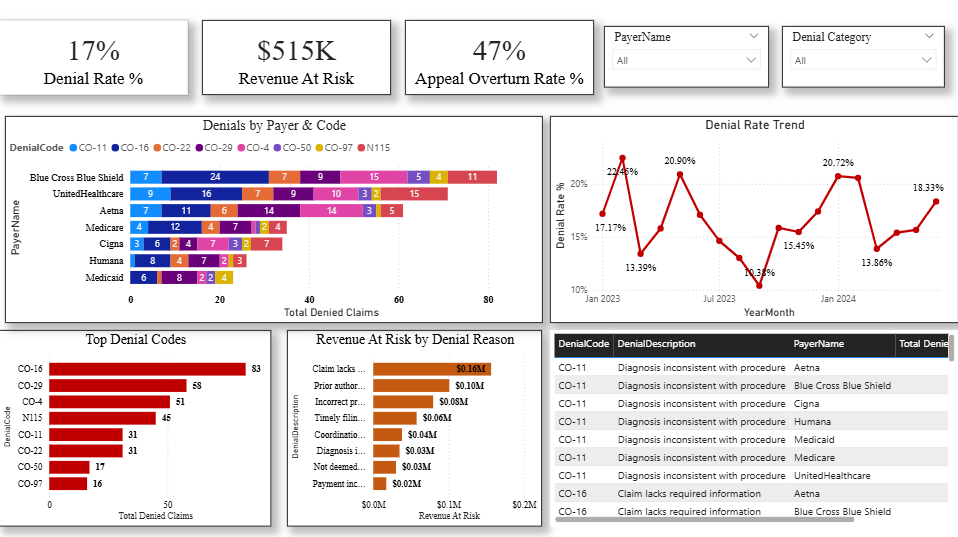

This screenshot's page, from the dashboard's own definition file:
{"tool":"powerbi","page":{"name":"Denial Management","canvas":[1280,720],"ordinal":1},"visuals":[{"type":"card","fields":{"Values":["Measures Table.Denial Rate %"]},"box":[0,26.7,251.7,100],"z":0},{"type":"card","fields":{"Values":["Measures Table.Revenue At Risk"]},"box":[270,26.7,251.7,100],"z":1000},{"type":"card","fields":{"Values":["Measures Table.Appeal Overturn Rate %"]},"box":[541.7,26.7,251.7,100],"z":2000},{"type":"barChart","title":"Top Denial Codes","fields":{"Category":["Claims_Data.DenialCode"],"Y":["Measures Table.Total Denied Claims"]},"box":[0,440,363.1,261.5],"z":3000},{"type":"barChart","title":"Revenue At Risk by Denial Reason","fields":{"Category":["Claims_Data.DenialDescription"],"Y":["Measures Table.Revenue At Risk"]},"box":[384.6,440,340,261.5],"z":4000},{"type":"barChart","title":"Denials by Payer & Code","fields":{"Category":["Claims_Data.PayerName"],"Y":["Measures Table.Total Denied Claims"],"Series":["Claims_Data.DenialCode"]},"box":[7.7,155.1,716.7,275.6],"z":5000},{"type":"lineChart","title":"Denial Rate Trend","fields":{"Category":["Date_Table.YearMonth"],"Y":["Measures Table.Denial Rate %"]},"box":[734.6,155.1,544.9,275.6],"z":6000},{"type":"tableEx","fields":{"Values":["Claims_Data.DenialCode","Claims_Data.DenialDescription","Claims_Data.PayerName","Measures Table.Total Denied Claims","Measures Table.Revenue At Risk"]},"box":[735,440,545,261.7],"z":7000},{"type":"slicer","fields":{"Values":["Claims_Data.PayerName"]},"box":[806.7,35,220,81.7],"z":8000},{"type":"slicer","fields":{"Values":["Claims_Data.Denial Category"]},"box":[1043.3,35,216.7,81.7],"z":9000}]}

Visuals, with their boxes in screenshot pixels (x1, y1, x2, y2), scaled from the page's 1280x720 canvas onto the 958x537 screenshot:
card - Measures Table.Denial Rate %: pyautogui.locateOnScreen(0, 20, 188, 94)
card - Measures Table.Revenue At Risk: pyautogui.locateOnScreen(202, 20, 390, 94)
card - Measures Table.Appeal Overturn Rate %: pyautogui.locateOnScreen(405, 20, 594, 94)
"Top Denial Codes" barChart: pyautogui.locateOnScreen(0, 328, 272, 523)
"Revenue At Risk by Denial Reason" barChart: pyautogui.locateOnScreen(288, 328, 542, 523)
"Denials by Payer & Code" barChart: pyautogui.locateOnScreen(6, 116, 542, 321)
"Denial Rate Trend" lineChart: pyautogui.locateOnScreen(550, 116, 957, 321)
tableEx - Claims_Data.DenialCode x Claims_Data.DenialDescription: pyautogui.locateOnScreen(550, 328, 957, 523)
slicer - Claims_Data.PayerName: pyautogui.locateOnScreen(604, 26, 768, 87)
slicer - Claims_Data.Denial Category: pyautogui.locateOnScreen(781, 26, 943, 87)
